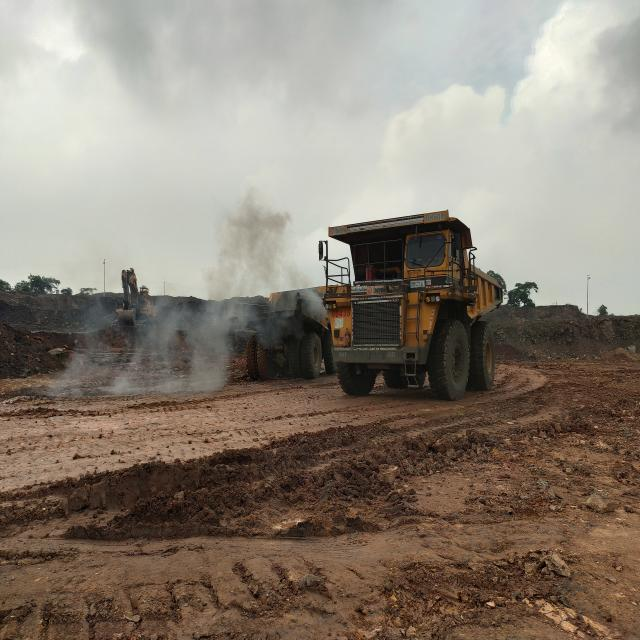dump_truck: (318, 212, 506, 403), (229, 285, 327, 381)
excavator: (105, 266, 158, 336)
